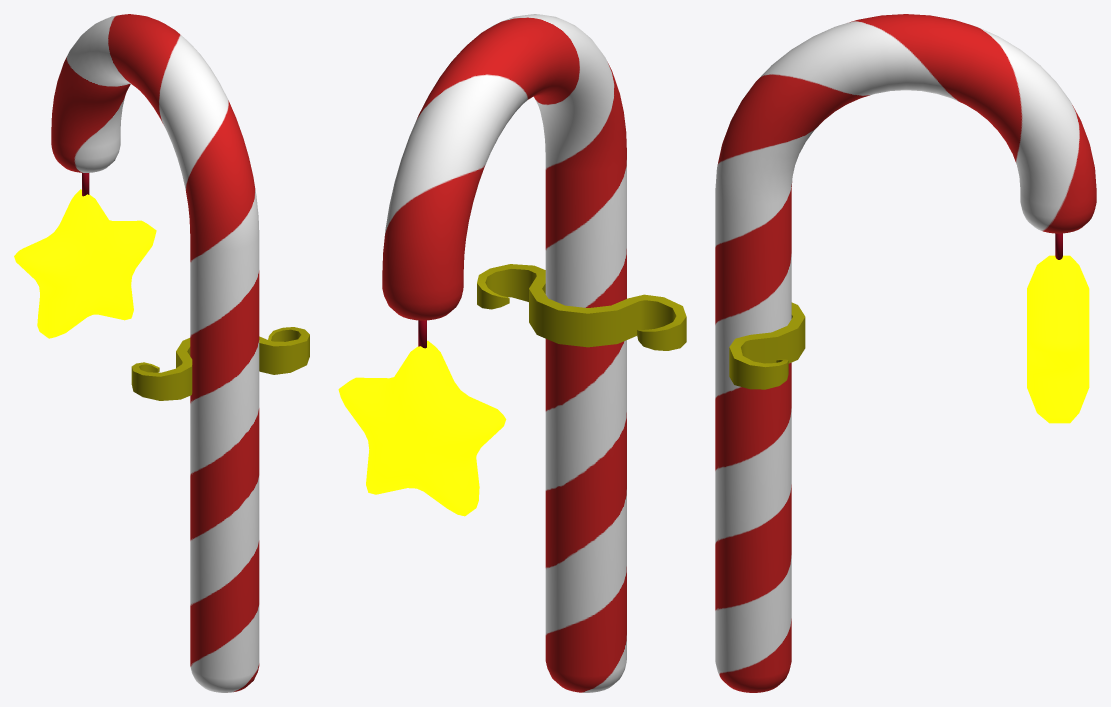
The model's file is lamp.fbx.
The picture shows the model from 3 angles, left to right: view 1: azimuth 30°, elevation 25°; view 2: azimuth 150°, elevation 25°; view 3: azimuth 270°, elevation 25°; orthographic projection. The views are drawn at different scales.
Parts seen in each view (by area): view 1: candycane, Cylinder, AWE.001; view 2: candycane, Cylinder, AWE.001; view 3: candycane, Cylinder, AWE.001.
Part boxes in pixels (x1,y1,x2,y2): candycane: [51, 14, 259, 692]; Cylinder: [14, 189, 156, 338]; AWE.001: [131, 327, 309, 400]; candycane: [382, 14, 626, 692]; Cylinder: [338, 340, 506, 516]; AWE.001: [477, 264, 686, 350]; candycane: [715, 14, 1096, 692]; Cylinder: [1027, 255, 1089, 423]; AWE.001: [729, 302, 805, 389].
Bounding box in the file's own units: 11.37 × 38.5 × 19.93.
